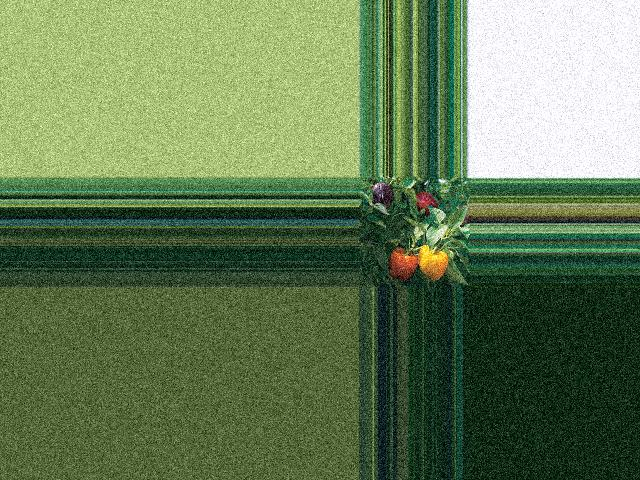bell_pepper: (410, 243, 448, 279)
